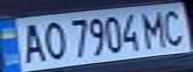0: (103, 14, 124, 54)
4: (121, 11, 145, 52)
7: (66, 16, 90, 58)
9: (87, 15, 109, 56)
A: (15, 20, 48, 64)
C: (157, 6, 190, 47)
M: (139, 7, 172, 50)
O: (39, 18, 69, 62)
